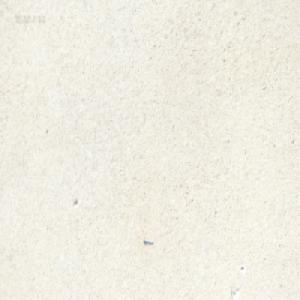Nail: (143, 237, 153, 245)
